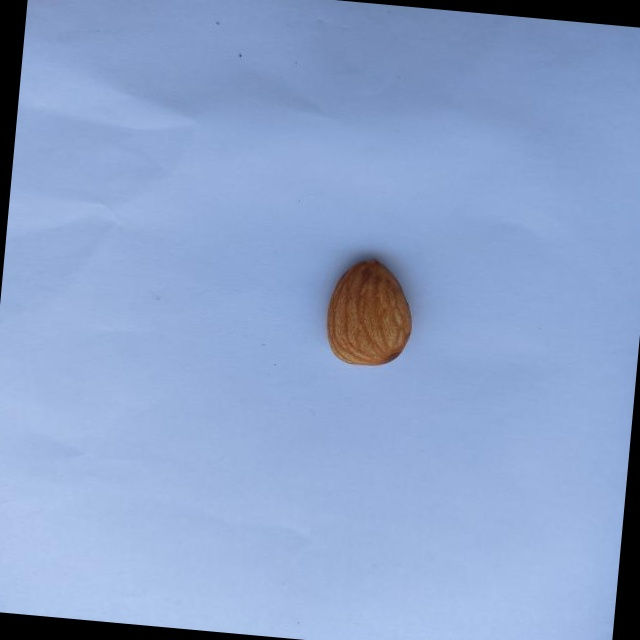grade1: (312, 247, 424, 377)
